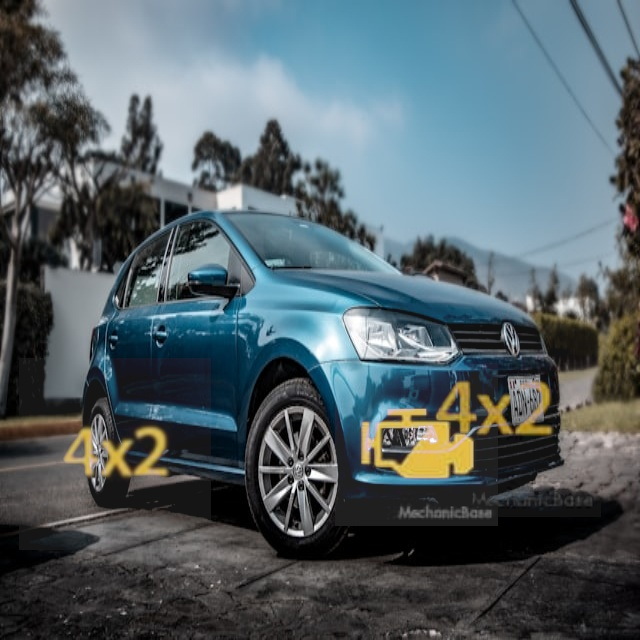symbol: (387, 303, 601, 517), (19, 358, 211, 550), (335, 363, 498, 526)
